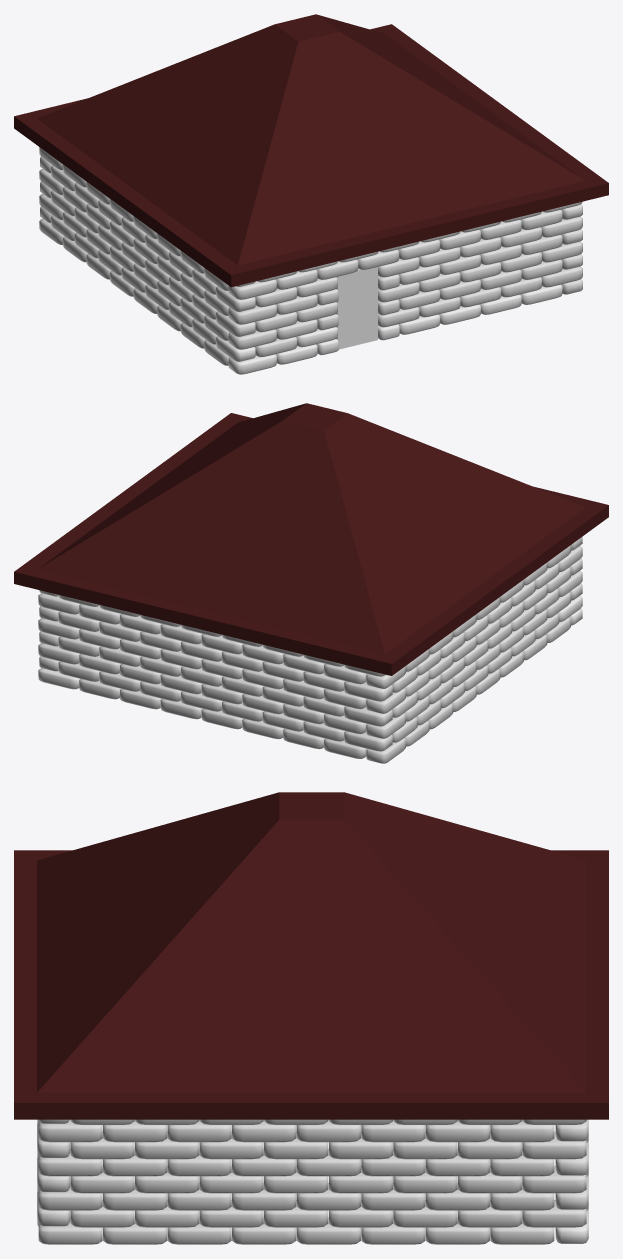
The model's file is buildableHouse.fbx.
3 views of the same model, one above another, from view 1: azimuth 30°, elevation 25°; view 2: azimuth 150°, elevation 25°; view 3: azimuth 270°, elevation 25° (orthographic). The views are drawn at different scales.
Visible parts, largest first — view 1: Roof, Door, Brick.012, Brick.063, Brick.031, Brick.032, Brick.016, Brick.021, Brick.053, Brick.015, Brick.048, Brick.018 (+40 smaller); view 2: Roof, Brick.245, Brick.234, Brick.202, Brick.224, Brick.192, Brick.255, Brick.223, Brick.197, Brick.229, Brick.218, Brick.250 (+48 smaller); view 3: Roof, Brick.127, Brick.117, Brick.106, Brick.064, Brick.096, Brick.074, Brick.095, Brick.103, Brick.120, Brick.070, Brick.126 (+48 smaller).
Boxes of the visible parts, x1,y1,x2,y2 form: Roof: (14, 14, 608, 287); Door: (336, 267, 377, 349); Brick.012: (228, 354, 276, 374); Brick.063: (228, 304, 276, 324); Brick.031: (228, 329, 276, 349); Brick.032: (228, 279, 276, 299); Brick.016: (255, 312, 297, 332); Brick.021: (541, 241, 582, 262); Brick.053: (541, 216, 582, 237); Brick.015: (255, 337, 297, 356); Brick.048: (255, 287, 297, 307); Brick.018: (378, 282, 419, 302); Roof: (14, 403, 608, 675); Brick.245: (344, 731, 392, 751); Brick.234: (344, 706, 392, 726); Brick.202: (344, 681, 392, 701); Brick.224: (38, 643, 80, 664); Brick.192: (38, 618, 80, 639); Brick.255: (38, 668, 80, 689); Brick.223: (38, 593, 80, 614); Brick.197: (324, 689, 366, 709); Brick.229: (324, 714, 366, 734); Brick.218: (324, 664, 366, 684); Brick.250: (324, 739, 366, 758); Roof: (14, 792, 608, 1119); Brick.127: (38, 1217, 102, 1244); Brick.117: (522, 1200, 586, 1227); Brick.106: (522, 1166, 586, 1193); Brick.064: (38, 1149, 102, 1176); Brick.096: (38, 1183, 102, 1210); Brick.074: (522, 1131, 586, 1159); Brick.095: (38, 1119, 102, 1142); Brick.103: (296, 1183, 360, 1210); Brick.120: (296, 1217, 360, 1244); Brick.070: (361, 1149, 425, 1176); Brick.126: (103, 1217, 167, 1244).
Bounding box in the file's own units: 1862 × 1104 × 1855.
